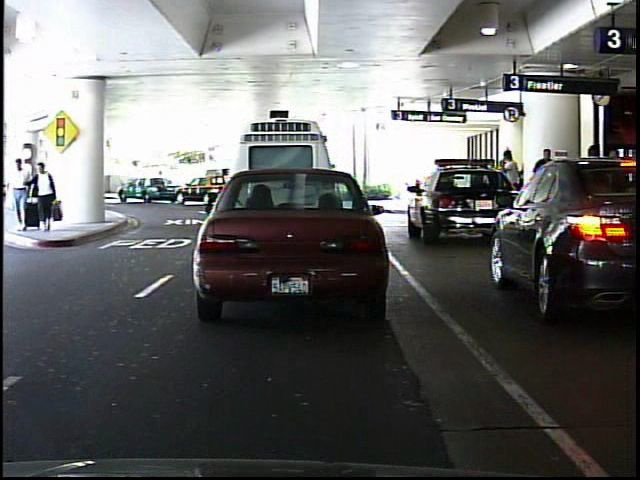person: (495, 145, 526, 230), (30, 157, 58, 233), (8, 154, 32, 231), (151, 166, 170, 200)
